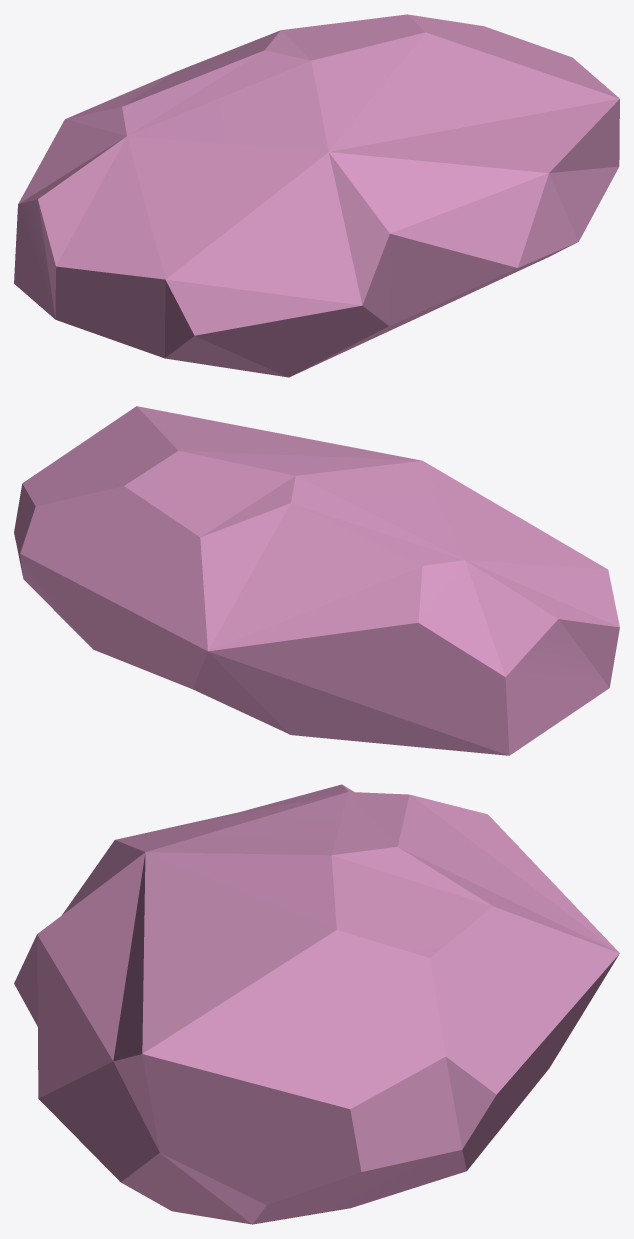
File: item_ore_silver_m.glb
3 renders of one model, top to bottom at view 1: azimuth 30°, elevation 25°; view 2: azimuth 150°, elevation 25°; view 3: azimuth 270°, elevation 25°, orthographic. The views are drawn at different scales.
Parts seen in each view (by area): view 1: Ore_Mineral_Drop_M; view 2: Ore_Mineral_Drop_M; view 3: Ore_Mineral_Drop_M.
Part boxes in pixels (box(x1,y1,x2,y2)): Ore_Mineral_Drop_M: box(14, 14, 619, 377); Ore_Mineral_Drop_M: box(14, 406, 619, 755); Ore_Mineral_Drop_M: box(14, 784, 619, 1224).
Bounding box in the file's own units: 0.3566 × 0.1487 × 0.2599.
